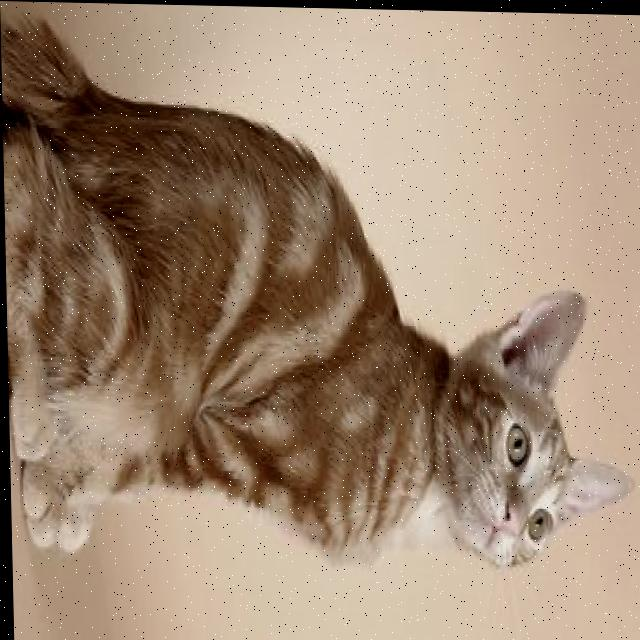American Bobtail: (0, 7, 640, 581)
